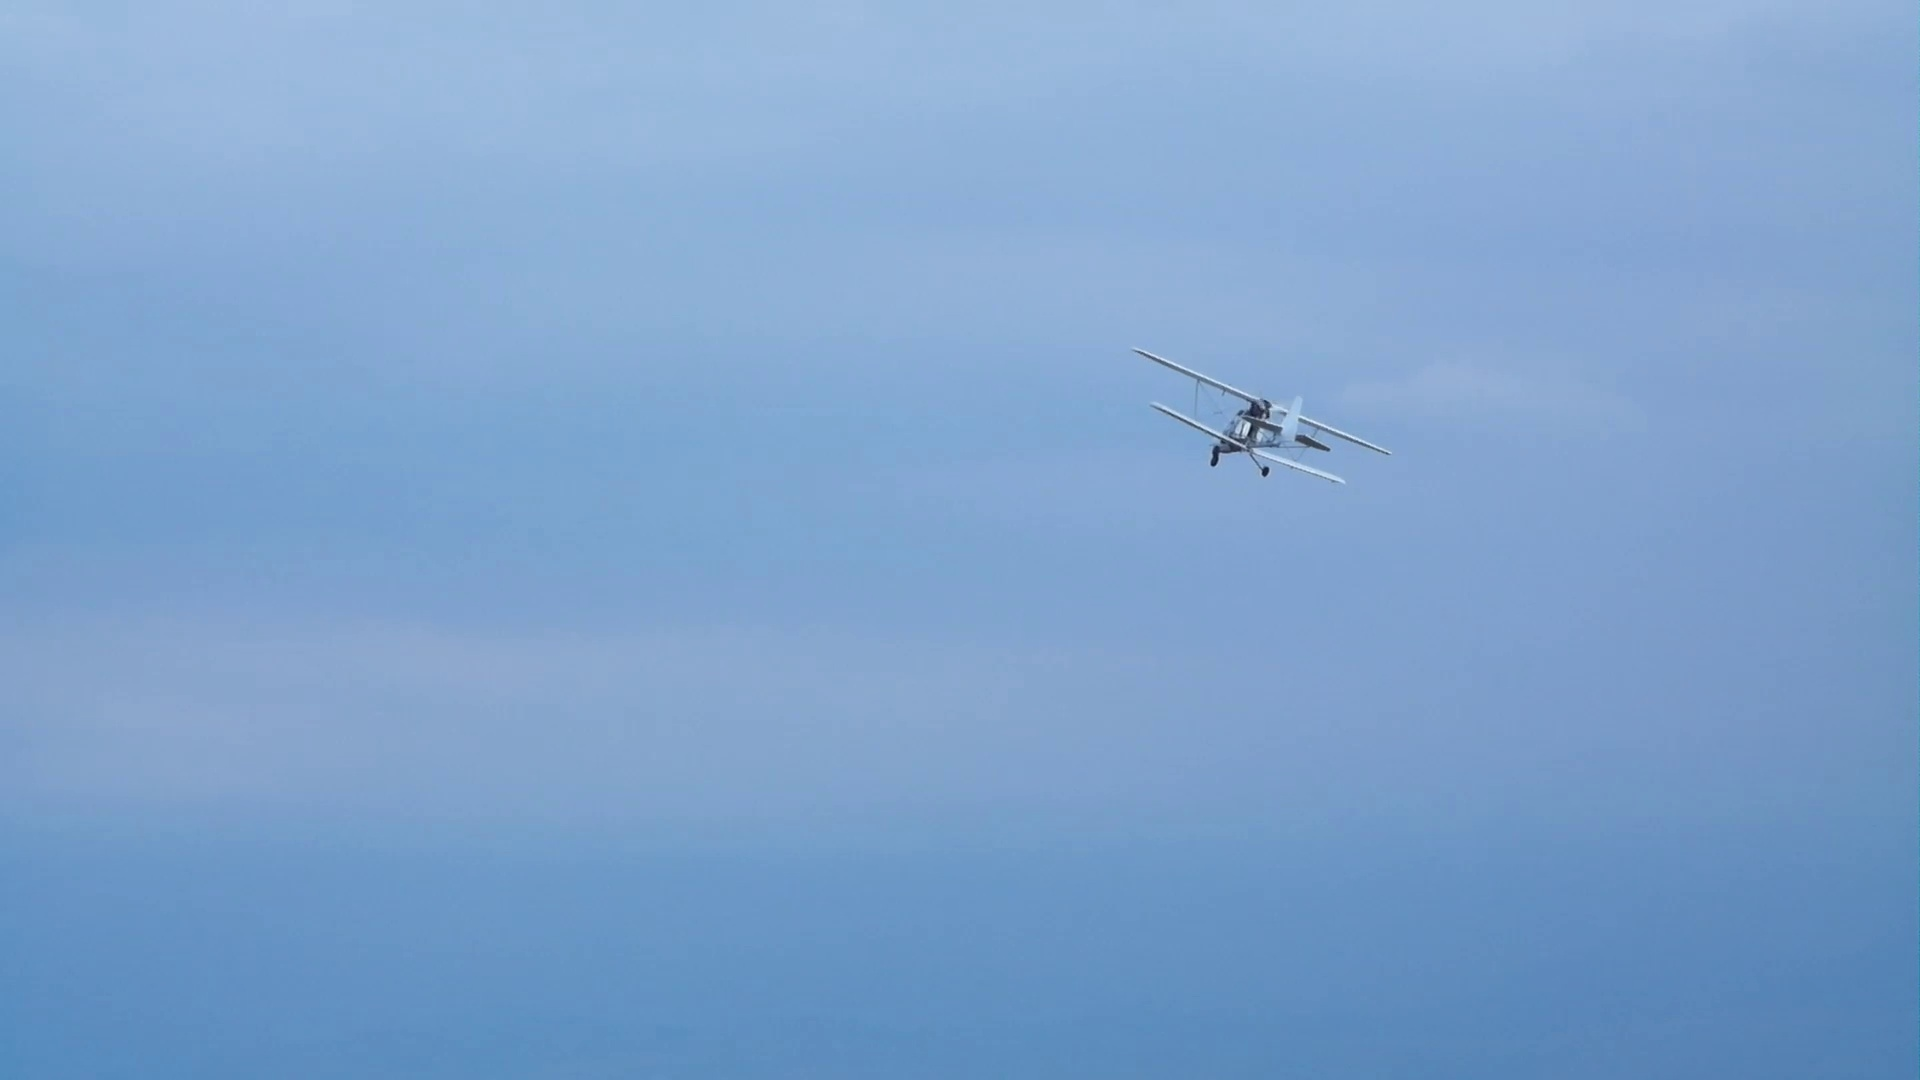plane: (1133, 343, 1391, 487)
